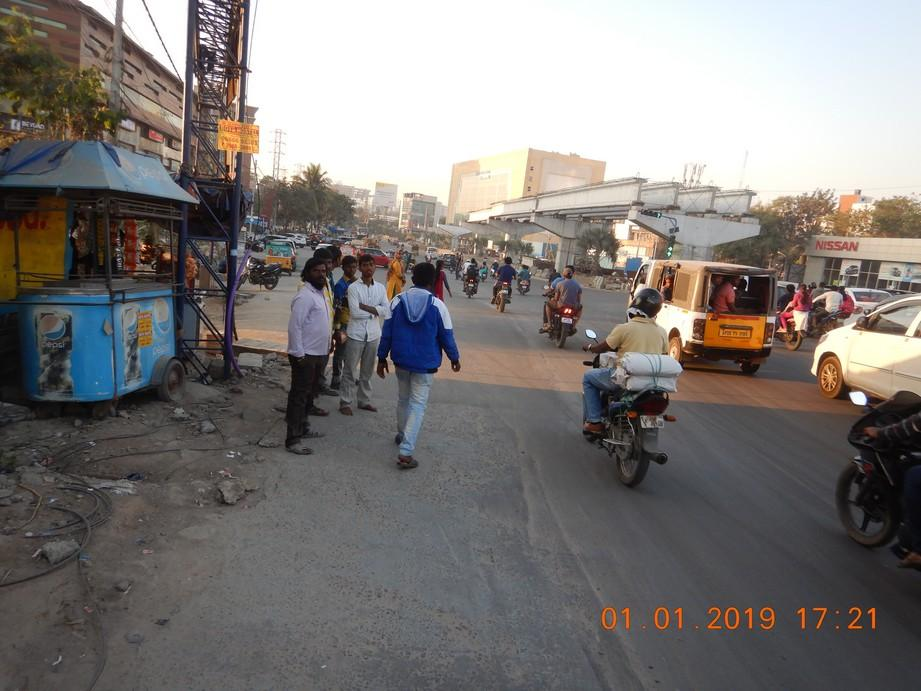with_helmet: (582, 288, 682, 488)
without_helmet: (536, 261, 587, 350), (765, 281, 816, 352), (807, 282, 857, 341), (489, 255, 518, 316), (459, 256, 484, 301), (515, 263, 533, 299)
